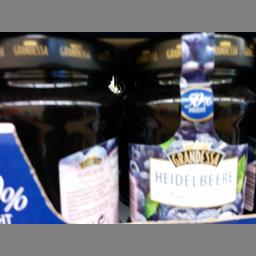jam: (126, 33, 248, 218), (0, 32, 118, 222)
